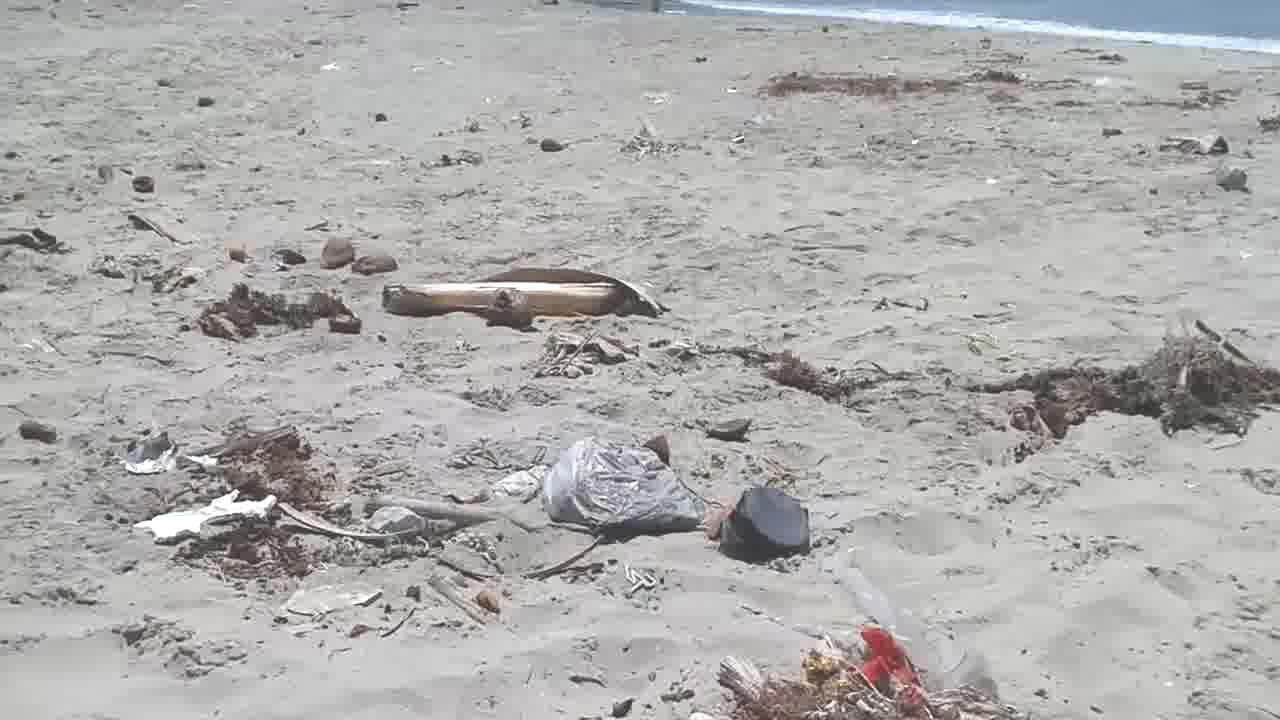obj: (170, 416, 538, 586), (961, 306, 1277, 470), (532, 434, 813, 564), (670, 625, 1020, 714), (530, 328, 911, 400), (379, 268, 670, 332), (754, 63, 1080, 107), (192, 282, 374, 338), (134, 488, 276, 545), (278, 580, 385, 628), (1154, 133, 1243, 188), (121, 200, 188, 255), (126, 430, 180, 474), (2, 225, 70, 254), (314, 236, 354, 267), (268, 241, 304, 272), (349, 256, 400, 276), (220, 245, 252, 268)
sand/background: (524, 0, 1279, 62)
